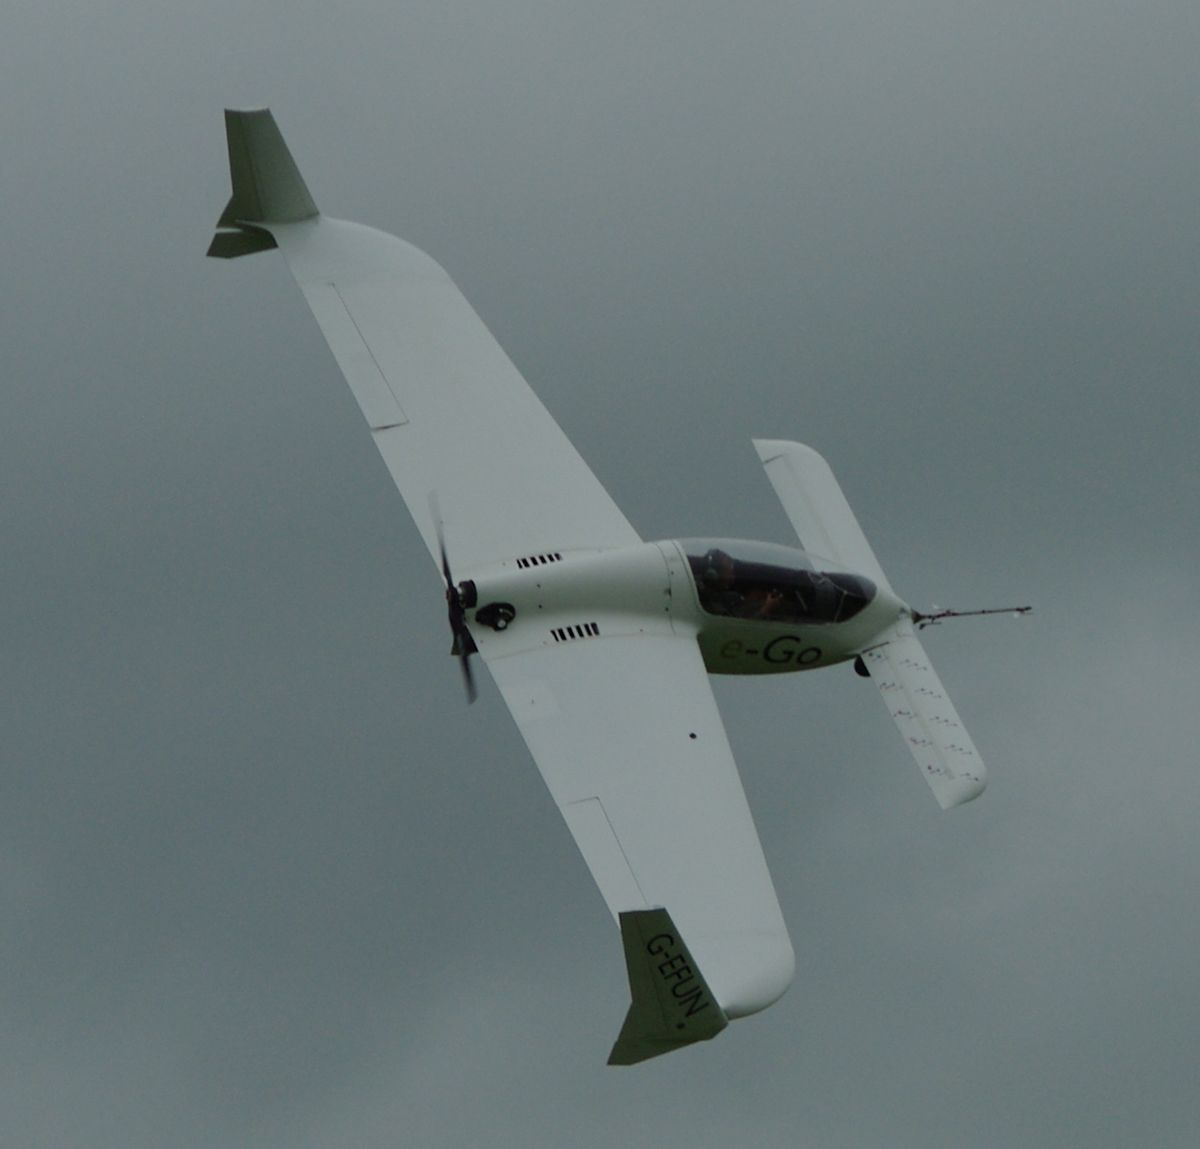aeroplane: (211, 98, 1042, 1030)
